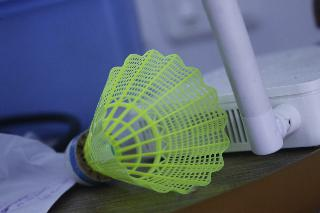shuttlecock: (65, 49, 229, 194)
